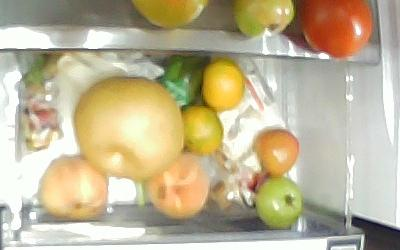peach: (39, 156, 108, 222), (147, 156, 209, 220)
pear: (72, 76, 185, 181)
tangerine: (201, 60, 245, 111), (182, 104, 223, 157)
tomato: (255, 177, 304, 230), (252, 128, 300, 177)
